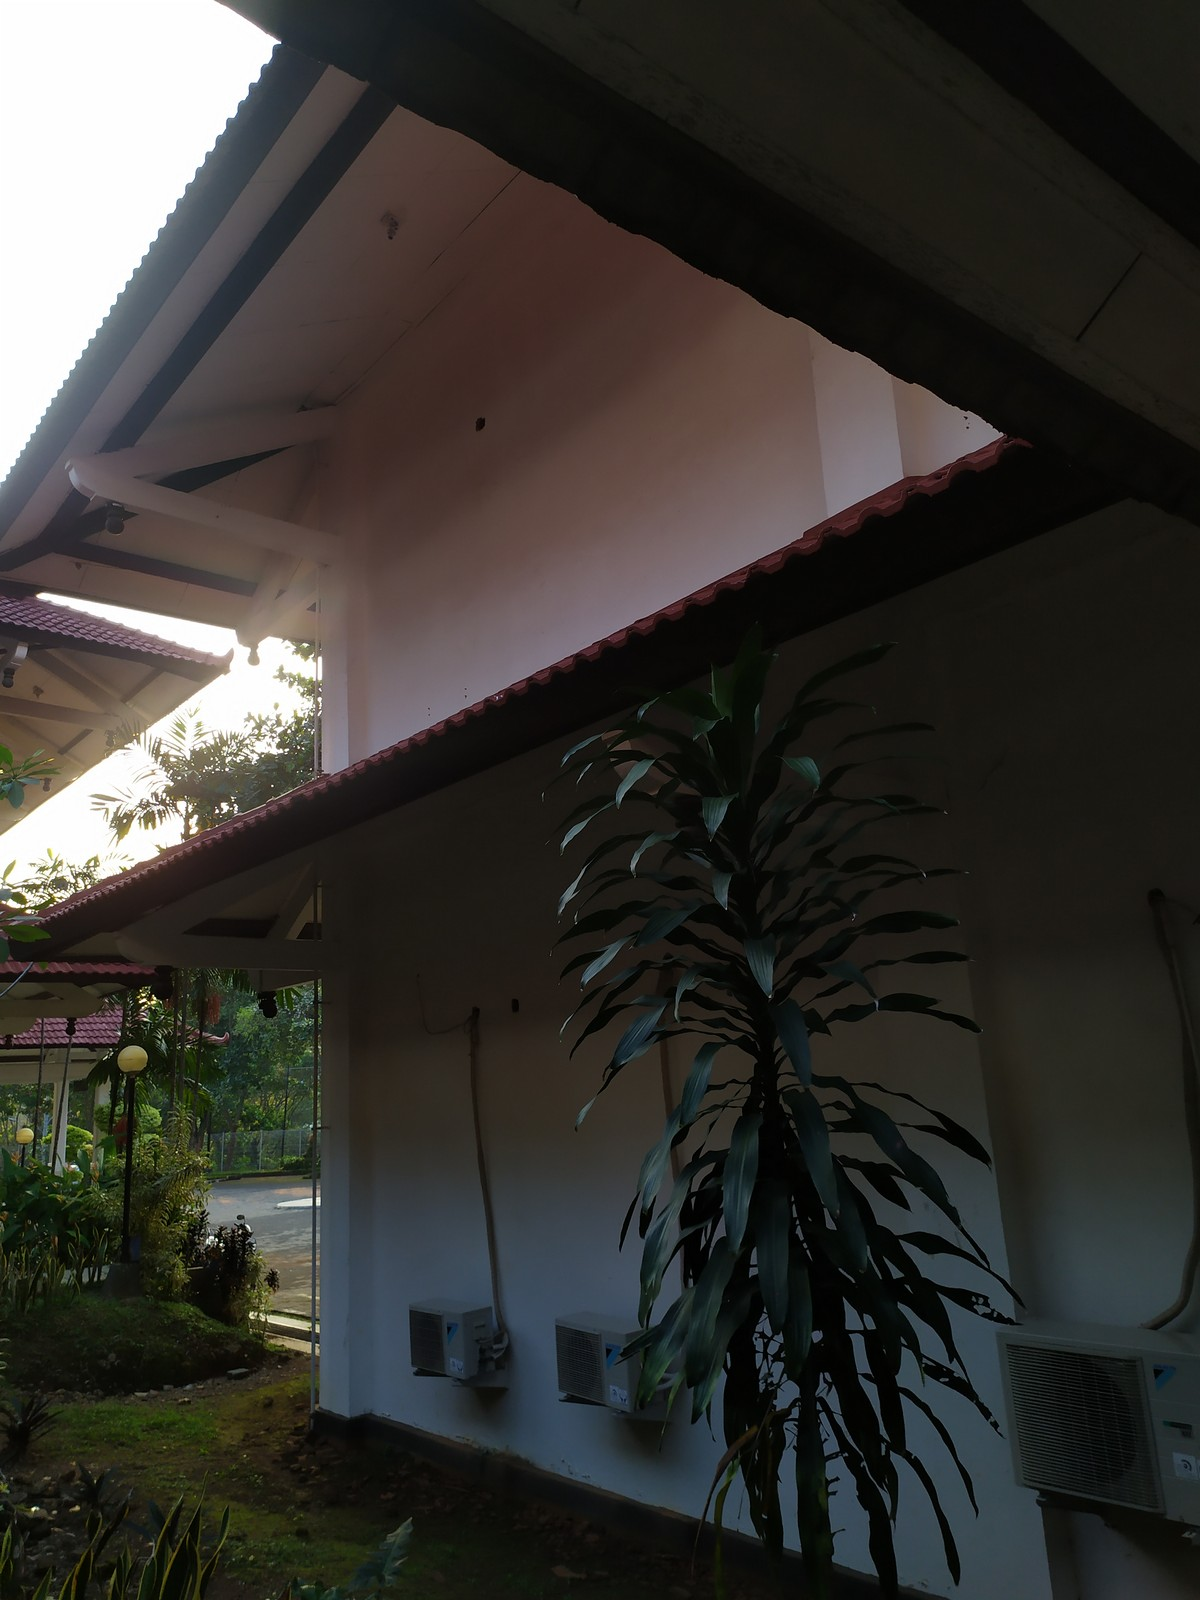concrete beam: (118, 483, 348, 569)
concrete column: (308, 894, 382, 1443), (316, 413, 366, 770)
